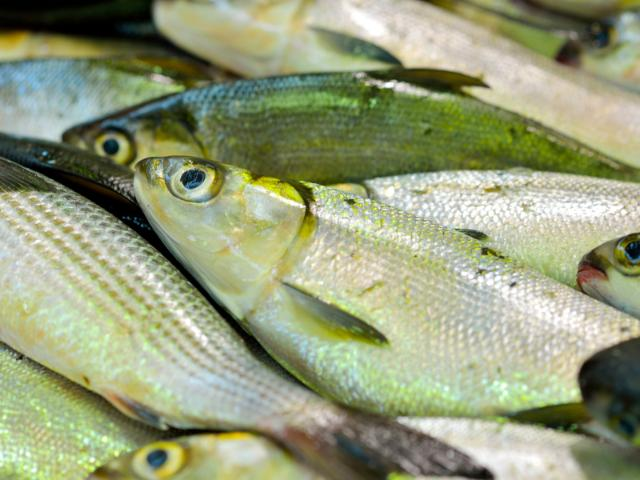Mulut: (534, 221, 624, 317), (117, 141, 169, 211)
Sirip Anal: (70, 361, 182, 451)
Sirip Dada: (259, 260, 396, 362)
Sirip Punggung: (356, 48, 504, 114)
